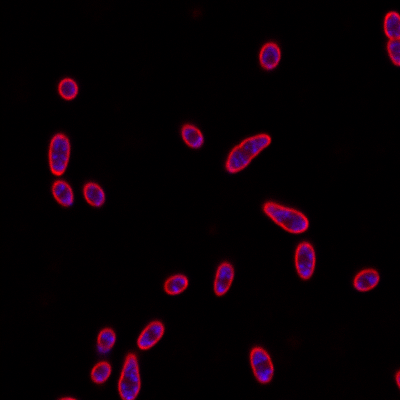MP265: (225, 134, 271, 173), (263, 202, 308, 233), (117, 352, 142, 400), (383, 11, 400, 68), (48, 133, 70, 176), (294, 241, 316, 282), (250, 347, 274, 384), (136, 321, 165, 351), (212, 262, 234, 297), (258, 41, 281, 71), (353, 267, 380, 292), (89, 360, 111, 384), (163, 274, 188, 295), (57, 77, 78, 101)
Oblique: (50, 180, 74, 207), (179, 124, 203, 149), (83, 182, 105, 208), (96, 328, 115, 357)
